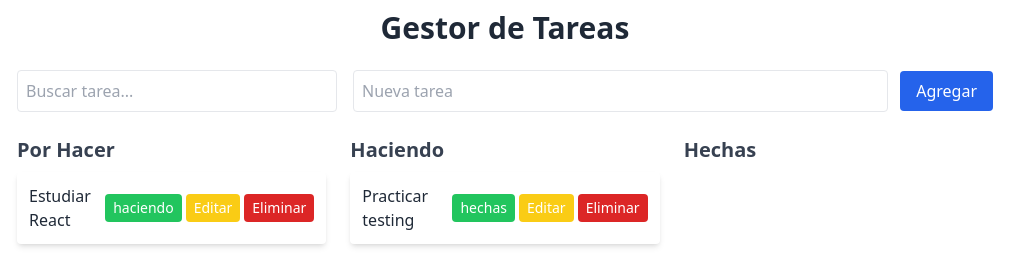
Test case: Todo App › permite buscar tareas existentes
Expected: the text "Estudiar React" is shown, [29,184,97,232]
Expected: the text "Practicar testing" is shown, [362,185,428,231]
In the field with placeholder "Buscar tarea...": coordinates (177, 91) [17,70,337,112], type "React"
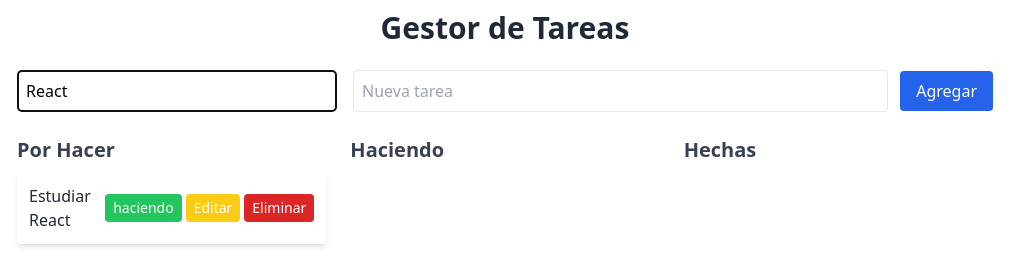
Expected: the text "Estudiar React" is shown, [29,184,97,232]
Expected: the text "Practicar testing" is gone
Clear the field with placeholder "Buscar tarea...": coordinates (177, 91) [17,70,337,112]
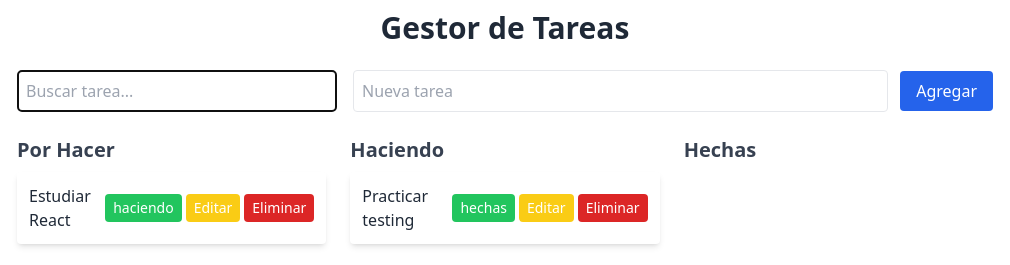
Expected: the text "Estudiar React" is shown, [29,184,97,232]
Expected: the text "Practicar testing" is shown, [362,185,428,231]
